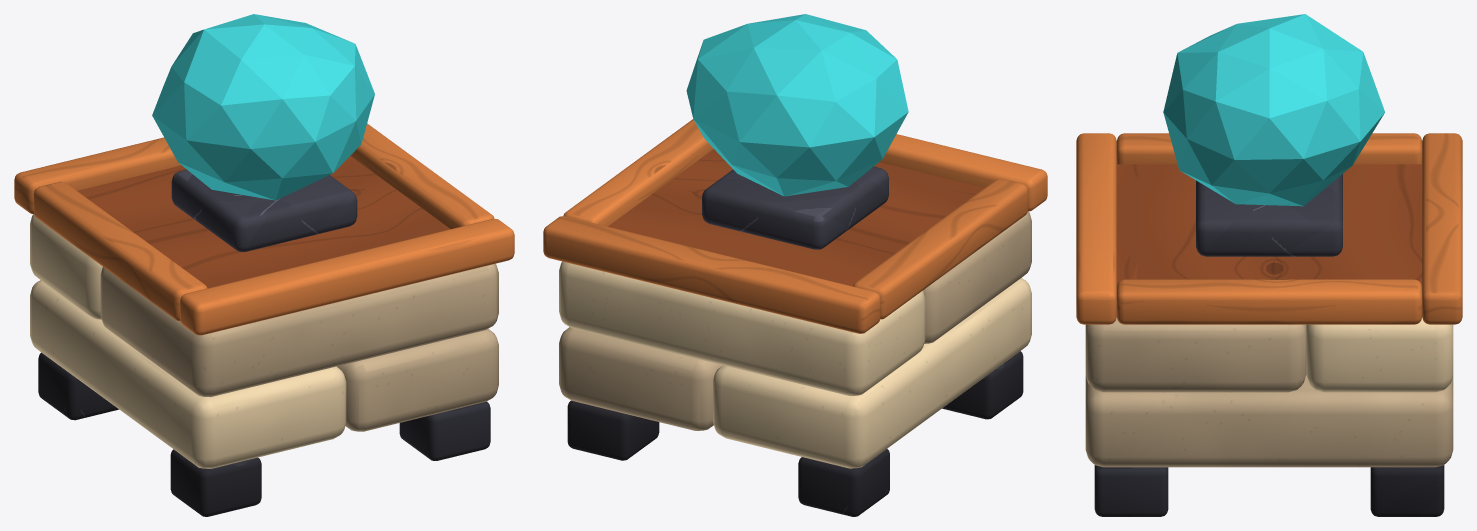
Rendered from OreStand_Textured.fbx.
3 renders of one model, left to right at view 1: azimuth 30°, elevation 25°; view 2: azimuth 150°, elevation 25°; view 3: azimuth 270°, elevation 25°, orthographic. The views are drawn at different scales.
Parts seen in each view (by area): view 1: OreStand_Textured_cream_dk, OreStand_Textured_wood, Ore.002, OreStand_Textured_cream, OreStand_Textured_wood_dk, OreStand_Textured_iron_dk, OreStand_Textured_iron; view 2: OreStand_Textured_cream, OreStand_Textured_wood, Ore.002, OreStand_Textured_cream_dk, OreStand_Textured_wood_dk, OreStand_Textured_iron_dk, OreStand_Textured_iron; view 3: OreStand_Textured_cream_dk, OreStand_Textured_wood, Ore.002, OreStand_Textured_wood_dk, OreStand_Textured_cream, OreStand_Textured_iron, OreStand_Textured_iron_dk.
Boxes of the visible parts, x1,y1,x2,y2 form: OreStand_Textured_cream_dk: [100, 263, 498, 431]; OreStand_Textured_wood: [14, 123, 514, 335]; Ore.002: [152, 14, 374, 200]; OreStand_Textured_cream: [30, 214, 346, 468]; OreStand_Textured_wood_dk: [77, 156, 450, 288]; OreStand_Textured_iron_dk: [38, 352, 490, 516]; OreStand_Textured_iron: [171, 169, 357, 251]; OreStand_Textured_cream: [559, 261, 1031, 468]; OreStand_Textured_wood: [543, 119, 1047, 333]; Ore.002: [686, 14, 908, 196]; OreStand_Textured_cream_dk: [559, 211, 1031, 430]; OreStand_Textured_wood_dk: [608, 149, 984, 286]; OreStand_Textured_iron_dk: [567, 351, 1023, 516]; OreStand_Textured_iron: [702, 166, 888, 249]; OreStand_Textured_cream_dk: [1085, 317, 1453, 467]; OreStand_Textured_wood: [1076, 133, 1462, 324]; Ore.002: [1163, 14, 1384, 206]; OreStand_Textured_wood_dk: [1116, 164, 1422, 286]; OreStand_Textured_cream: [1306, 317, 1453, 392]; OreStand_Textured_iron: [1196, 174, 1342, 256]; OreStand_Textured_iron_dk: [1094, 465, 1444, 516].
Bounding box in the file's own units: 2.1 × 2.5 × 2.1.
Materials: 7 (6 with a texture image).
